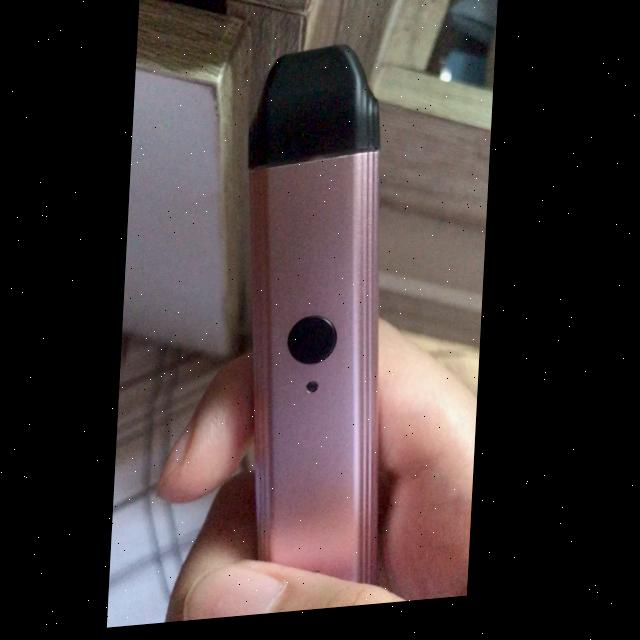vape: (227, 46, 404, 598)
